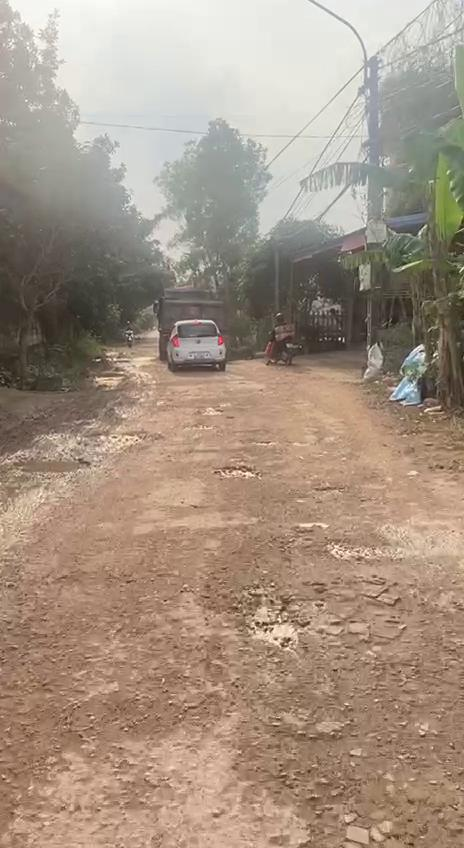pothole: (262, 711, 464, 848), (228, 576, 314, 654), (328, 536, 408, 563), (12, 456, 96, 473), (212, 463, 262, 481)
